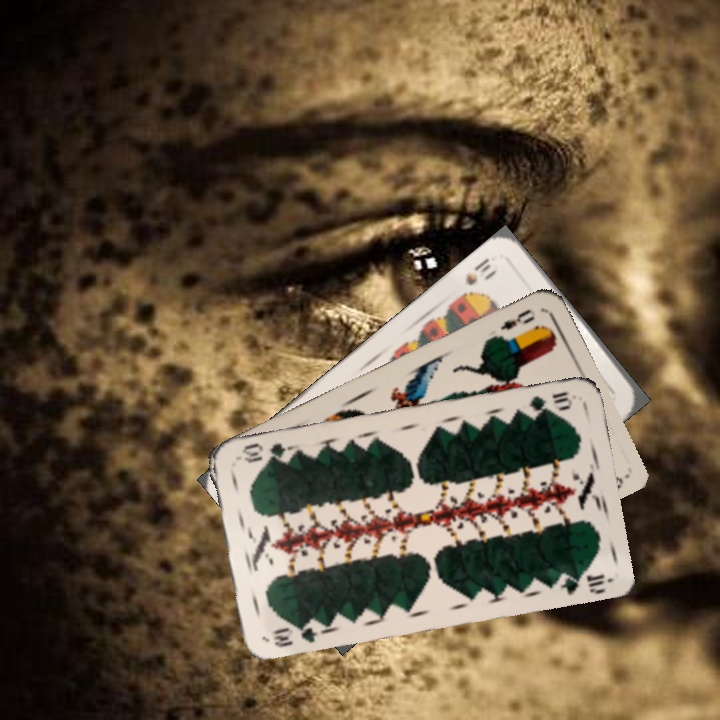EO: (490, 305, 538, 342)
G10: (269, 618, 320, 650), (525, 387, 578, 416)
S10: (461, 253, 501, 289)
